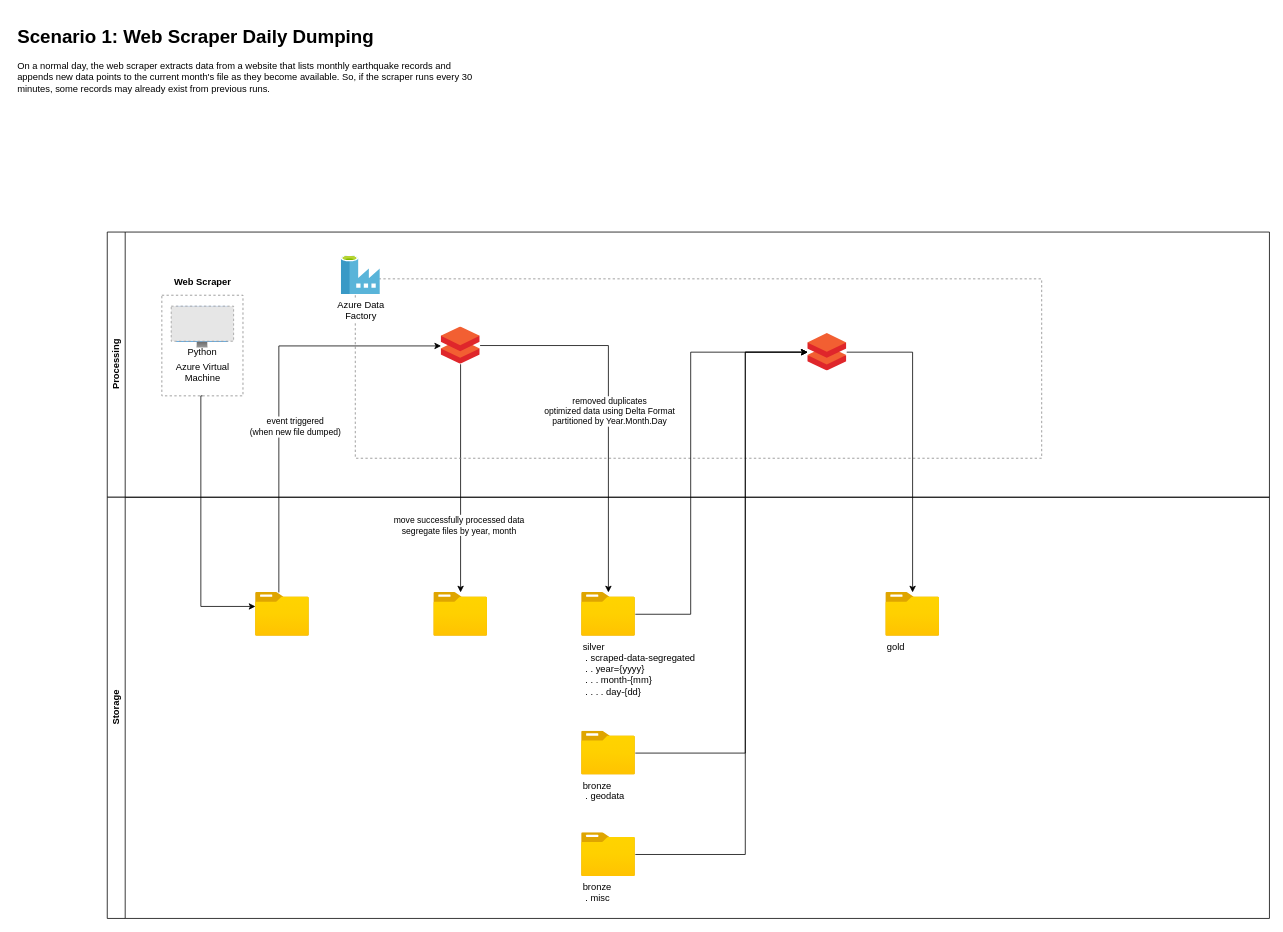
Some shapes in this 1283 by 932 pixel diagram are drawn without their labels. Grey dashed boxes stand in for pictures. The shapes that lost their labels are listed below. From the top down, each one's centre as x and y in pixels, then its label:
point 460,345: Databricks (Preprocessing)
point 826,351: Databricks (Transformation)
point 282,614: bronze . scraped-data . . for-processing
point 460,614: bronze . scraped-data . . archives . . . year={yyyy} . . . . month={mm}
